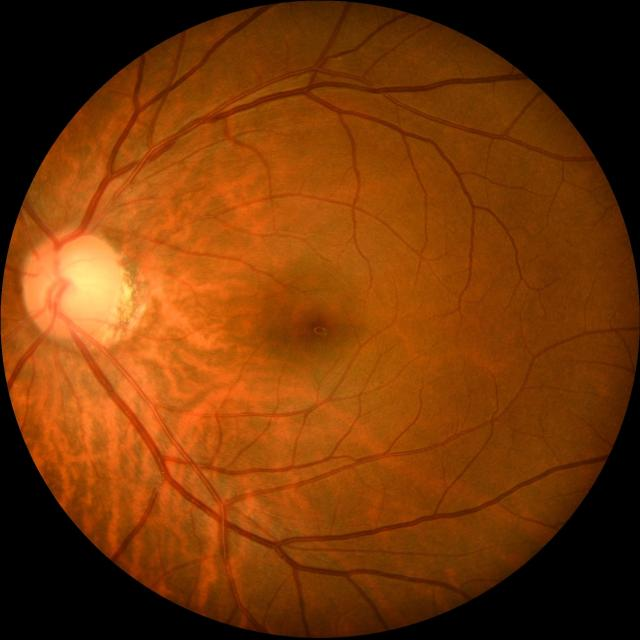OC: (47, 250, 110, 320)
OD: (22, 229, 124, 342)
